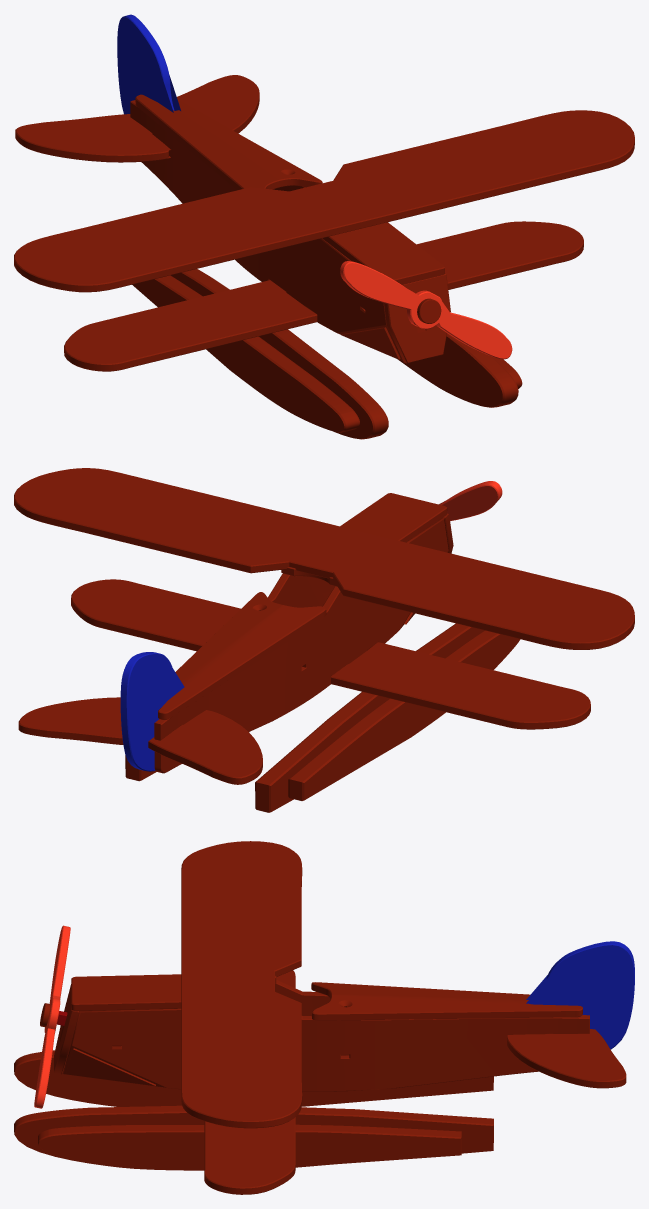
The picture shows the model from 3 angles, top to bottom: view 1: azimuth 30°, elevation 25°; view 2: azimuth 150°, elevation 25°; view 3: azimuth 270°, elevation 25°; orthographic projection. The views are drawn at different scales.
Visible parts, largest first — view 1: верхнее крыло, Фюзеляж 01, нижнее крыло, Shape45188, рули высоты, Shape2, Shape32, хвост, Object59446; view 2: верхнее крыло, Фюзеляж 01, нижнее крыло, Shape45188, рули высоты, хвост, Shape32; view 3: Фюзеляж 01, верхнее крыло, Shape2, хвост, Shape45188, нижнее крыло, рули высоты, Shape32, Object59446.
Boxes of the visible parts, <box> form: верхнее крыло: <box>14,110,634,292</box>; Фюзеляж 01: <box>130,94,450,363</box>; нижнее крыло: <box>64,221,583,371</box>; Shape45188: <box>132,269,388,439</box>; рули высоты: <box>15,75,259,162</box>; Shape2: <box>398,333,522,407</box>; Shape32: <box>340,261,512,359</box>; хвост: <box>117,14,180,114</box>; Object59446: <box>341,327,400,359</box>; верхнее крыло: <box>14,468,634,649</box>; Фюзеляж 01: <box>154,493,453,773</box>; нижнее крыло: <box>71,579,590,729</box>; Shape45188: <box>255,623,520,812</box>; рули высоты: <box>18,697,262,784</box>; хвост: <box>120,652,184,771</box>; Shape32: <box>439,481,502,521</box>; Фюзеляж 01: <box>54,974,589,1091</box>; верхнее крыло: <box>181,841,302,1128</box>; Shape2: <box>14,1105,493,1170</box>; хвост: <box>526,941,634,1049</box>; Shape45188: <box>14,1050,493,1106</box>; нижнее крыло: <box>204,970,295,1194</box>; рули высоты: <box>507,1029,626,1088</box>; Shape32: <box>34,925,70,1108</box>; Object59446: <box>66,1048,155,1085</box>.
Size of the model in its own units: 4.68 by 1.52 by 4.37.
